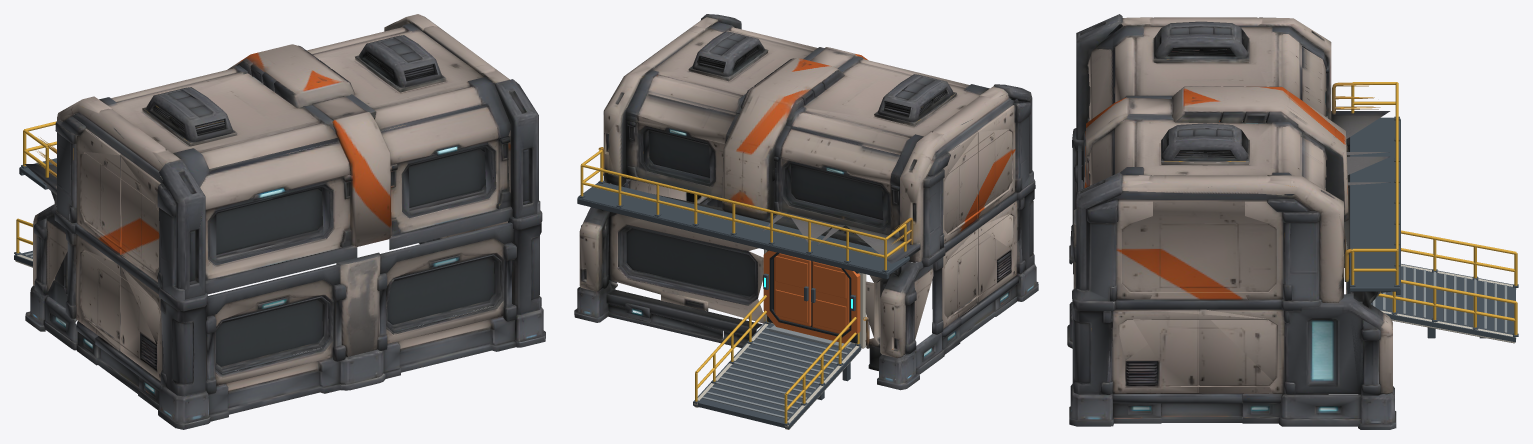
3 renders of one model, left to right at view 1: azimuth 30°, elevation 25°; view 2: azimuth 150°, elevation 25°; view 3: azimuth 270°, elevation 25°, orthographic. The views are drawn at different scales.
Visible parts, largest first — view 1: Static_tripo_material_eabae4f1-cbde-4f78-a2a0-97c4d1e19427, Static_Space_SafetyYellow; view 2: Static_tripo_material_eabae4f1-cbde-4f78-a2a0-97c4d1e19427, Static_Space_Structure, Static_Space_AirlockOrange, Static_Space_SafetyYellow, Static_Space_BareMetal, Static_Space_WarmWhite, Static_Space_Gasket; view 3: Static_tripo_material_eabae4f1-cbde-4f78-a2a0-97c4d1e19427, Static_Space_Structure, Static_Space_SafetyYellow, Static_Space_BareMetal, Static_Space_WarmWhite.
Part boxes in pixels (x1=…): Static_tripo_material_eabae4f1-cbde-4f78-a2a0-97c4d1e19427: x1=24, y1=14, x2=545, y2=429; Static_Space_SafetyYellow: x1=16, y1=121, x2=56, y2=253; Static_tripo_material_eabae4f1-cbde-4f78-a2a0-97c4d1e19427: x1=574, y1=14, x2=1038, y2=390; Static_Space_Structure: x1=577, y1=180, x2=909, y2=428; Static_Space_AirlockOrange: x1=763, y1=250, x2=860, y2=343; Static_Space_SafetyYellow: x1=580, y1=149, x2=906, y2=423; Static_Space_BareMetal: x1=702, y1=325, x2=852, y2=419; Static_Space_WarmWhite: x1=694, y1=249, x2=866, y2=429; Static_Space_Gasket: x1=767, y1=250, x2=858, y2=343; Static_tripo_material_eabae4f1-cbde-4f78-a2a0-97c4d1e19427: x1=1067, y1=14, x2=1396, y2=429; Static_Space_Structure: x1=1349, y1=116, x2=1518, y2=342; Static_Space_SafetyYellow: x1=1351, y1=82, x2=1517, y2=335; Static_Space_BareMetal: x1=1372, y1=266, x2=1507, y2=333; Static_Space_WarmWhite: x1=1346, y1=240, x2=1516, y2=343.
Size of the model in its own units: 12 by 8.41 by 12.81.
8 materials, 1 textured.
